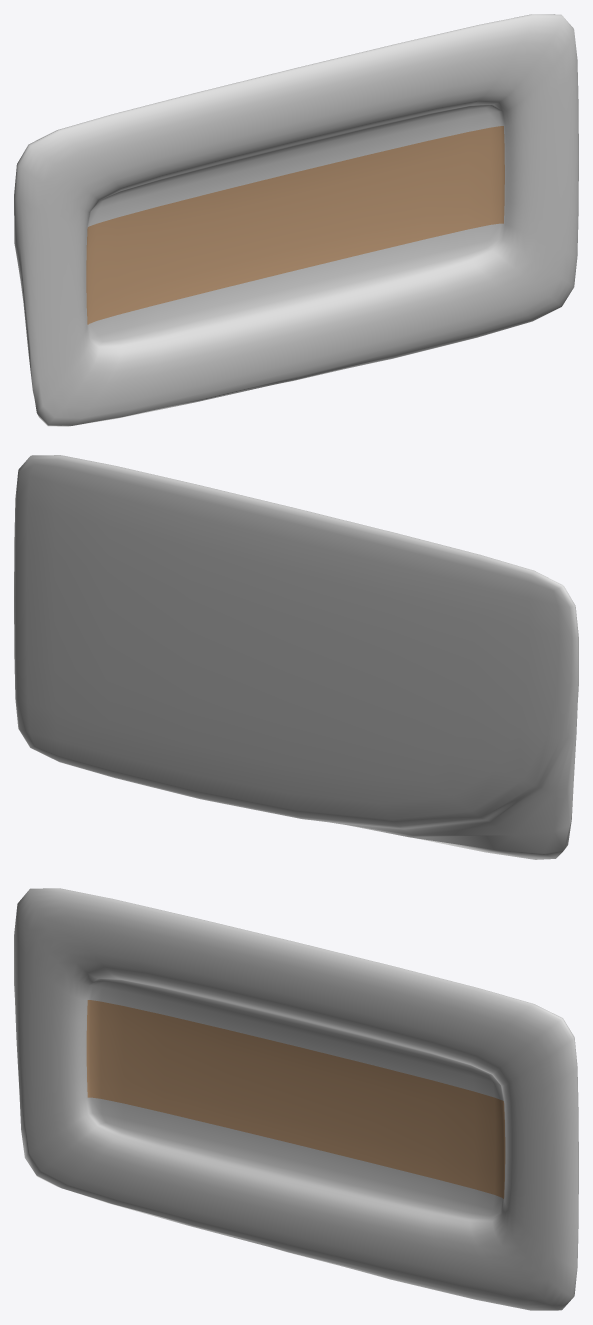
The model's file is draw.fbx.
3 views of the same model, one above another, from view 1: azimuth 30°, elevation 25°; view 2: azimuth 150°, elevation 25°; view 3: azimuth 330°, elevation 25° (orthographic).
Parts seen in each view (by area): view 1: frame; view 2: frame; view 3: frame.
Part boxes in pixels (<box>): frame: <box>14,14,578,426</box>; frame: <box>14,455,578,859</box>; frame: <box>14,888,578,1310</box>.
Size of the model in its own units: 1.49 by 0.7921 by 0.0664.
